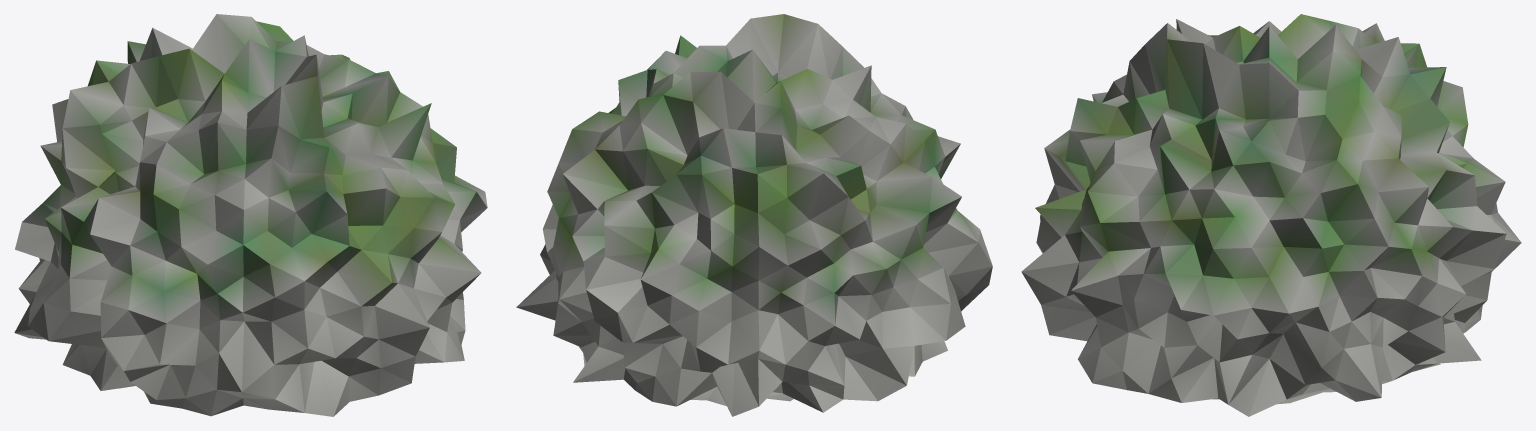
The model's file is rock_2.glb.
3 views of the same model, side by side, from view 1: azimuth 30°, elevation 25°; view 2: azimuth 150°, elevation 25°; view 3: azimuth 270°, elevation 25° (orthographic). The views are drawn at different scales.
Visible parts, largest first — view 1: world; view 2: world; view 3: world.
Boxes of the visible parts, x1,y1,x2,y2 form: world: (14,14,487,416); world: (516,14,992,416); world: (1021,14,1521,416).
Bounding box in the file's own units: 1.27 × 0.8432 × 1.3.
